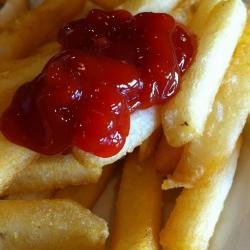fries: (22, 156, 226, 244)
ketchup: (25, 14, 186, 148)
